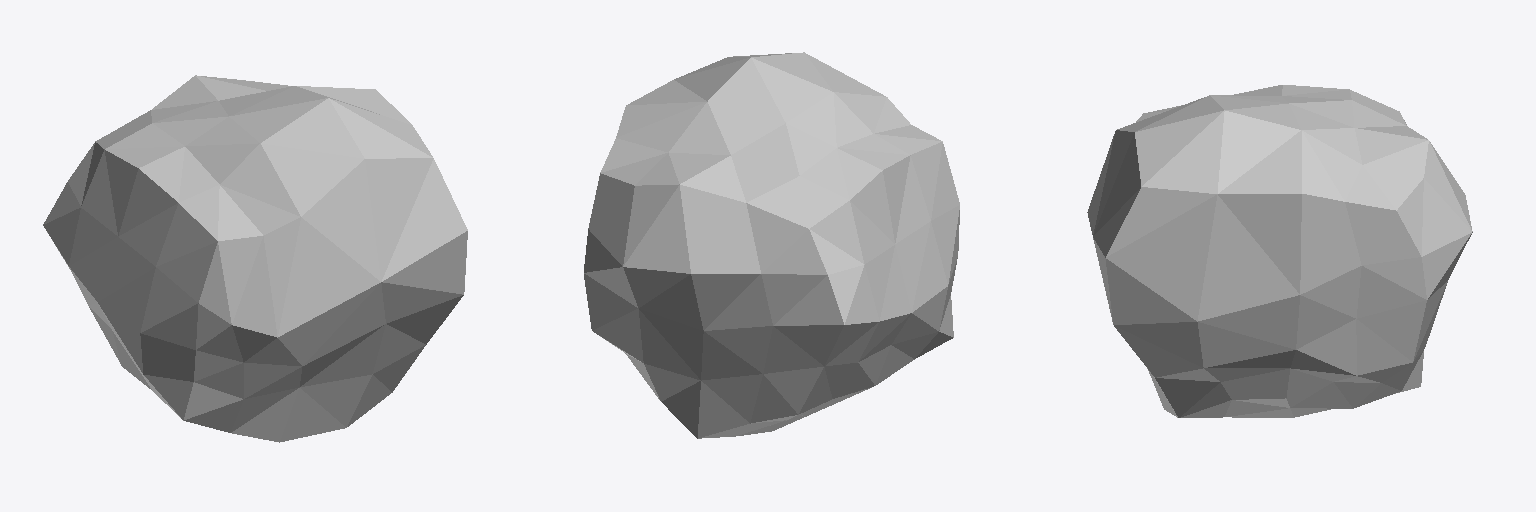
The model's file is Astro2.obj.
The picture shows the model from 3 angles: view 1: azimuth 30°, elevation 25°; view 2: azimuth 150°, elevation 25°; view 3: azimuth 270°, elevation 25°; orthographic projection.
Parts seen in each view (by area): view 1: Cube; view 2: Cube; view 3: Cube.
Boxes of the visible parts, x1,y1,x2,y2 form: Cube: [43, 75, 467, 442]; Cube: [584, 52, 959, 438]; Cube: [1087, 85, 1472, 417].
Bounding box in the file's own units: 2.12 × 2.25 × 2.35.